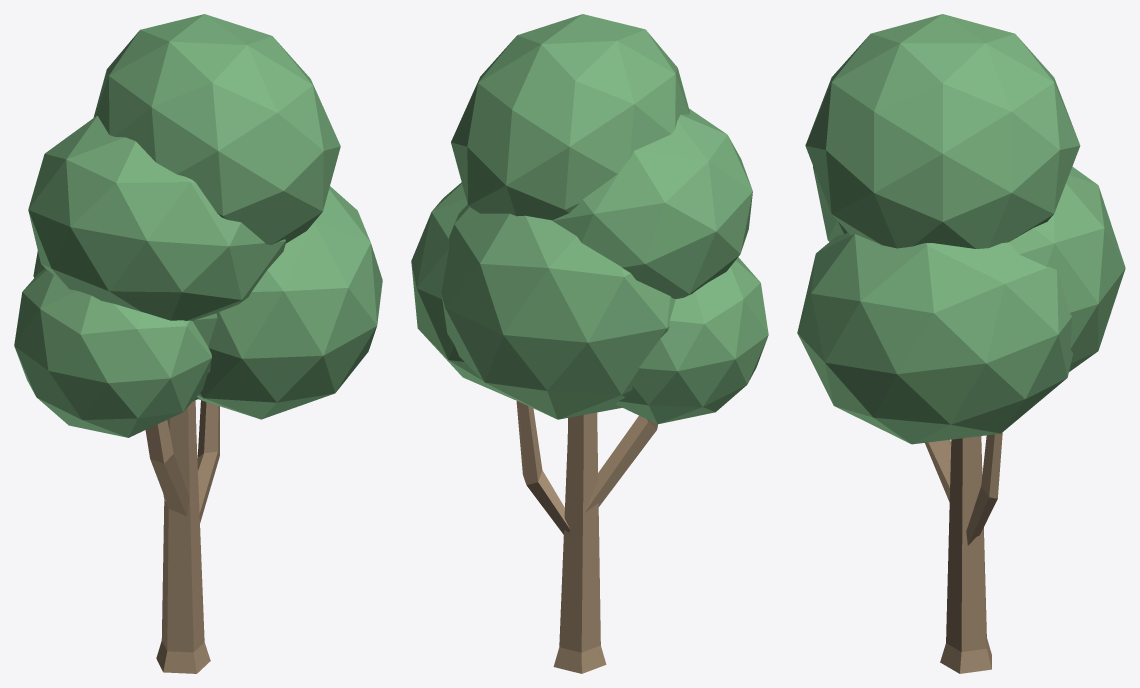
Rendered from tree-maple.glb.
The picture shows the model from 3 angles, left to right: view 1: azimuth 30°, elevation 25°; view 2: azimuth 150°, elevation 25°; view 3: azimuth 270°, elevation 25°; orthographic projection. The views are drawn at different scales.
Visible parts, largest first — view 1: tree_maple; view 2: tree_maple; view 3: tree_maple.
Part boxes in pixels (x1,y1,x2,y2): tree_maple: (14, 14, 382, 673); tree_maple: (411, 14, 768, 673); tree_maple: (797, 14, 1125, 673).
Size of the model in its own units: 377 by 699 by 327.
